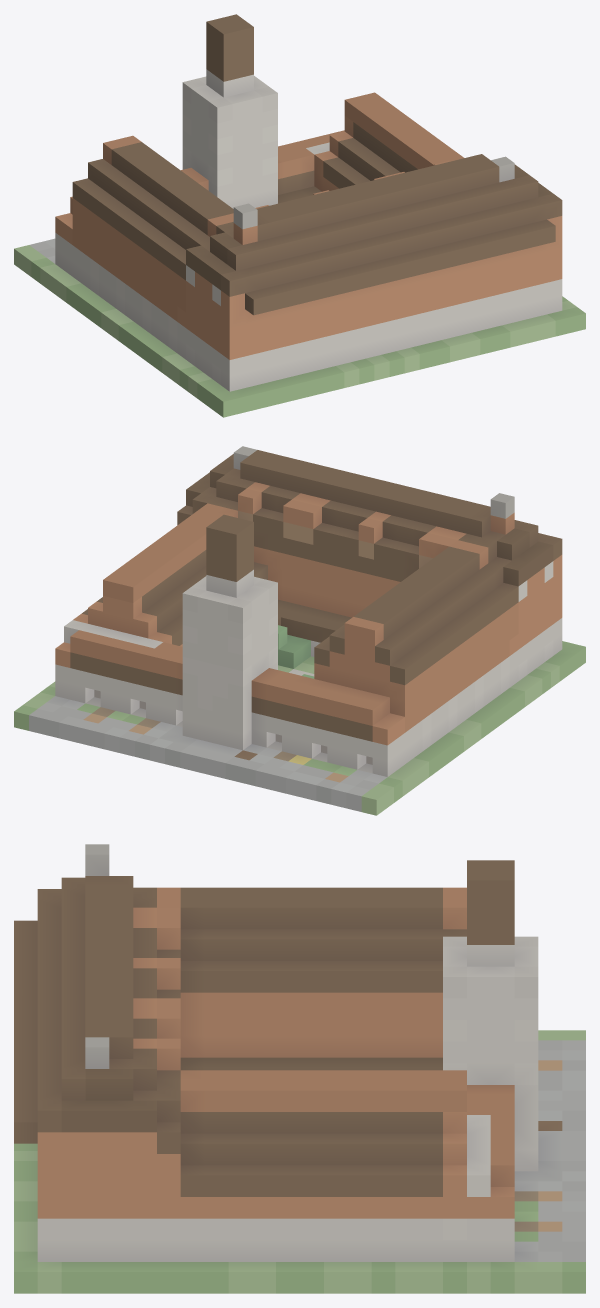
Rendered from university.lite.glb.
The picture shows the model from 3 angles, top to bottom: view 1: azimuth 30°, elevation 25°; view 2: azimuth 150°, elevation 25°; view 3: azimuth 270°, elevation 25°; orthographic projection. The views are drawn at different scales.
Visible parts, largest first — view 1: university; view 2: university; view 3: university.
Boxes of the visible parts, bbox=[...] form: university: bbox=[14, 14, 585, 417]; university: bbox=[14, 446, 585, 815]; university: bbox=[14, 844, 585, 1293].
Bounding box in the file's own units: 12 × 7 × 12.
